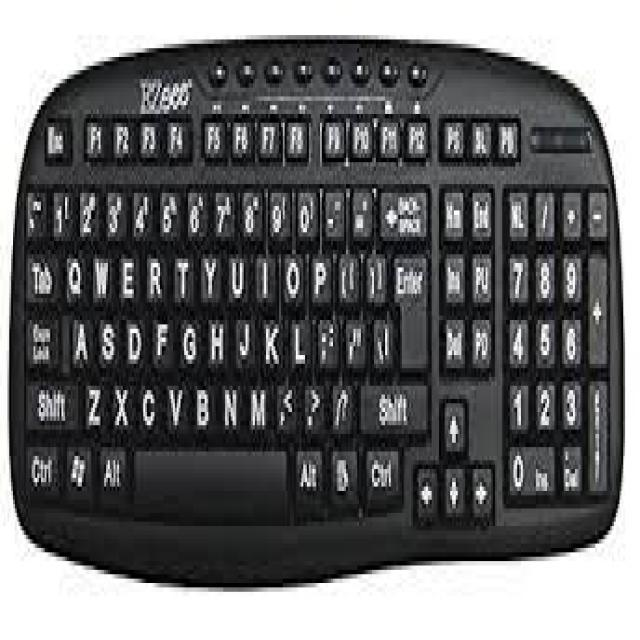others: (2, 18, 640, 588)
